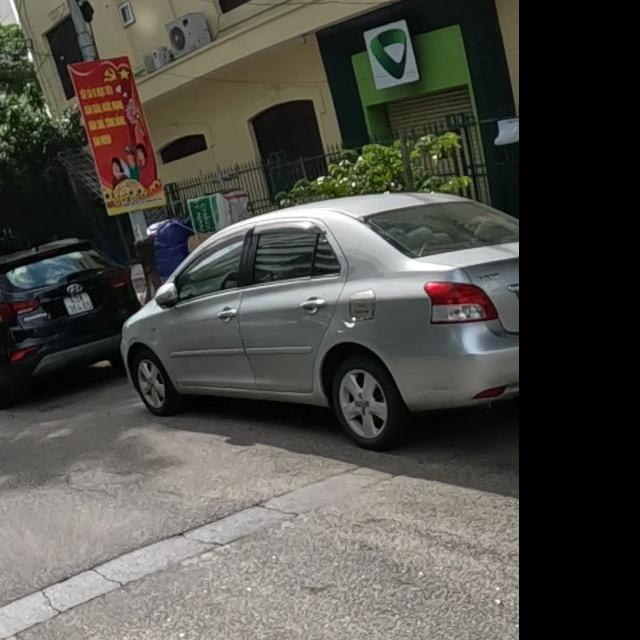license-plate: (61, 292, 94, 317)
